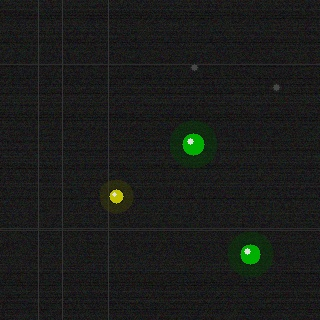green_normal: (180, 131, 206, 157), (238, 242, 262, 266)
yellow_warning: (107, 187, 125, 205)
